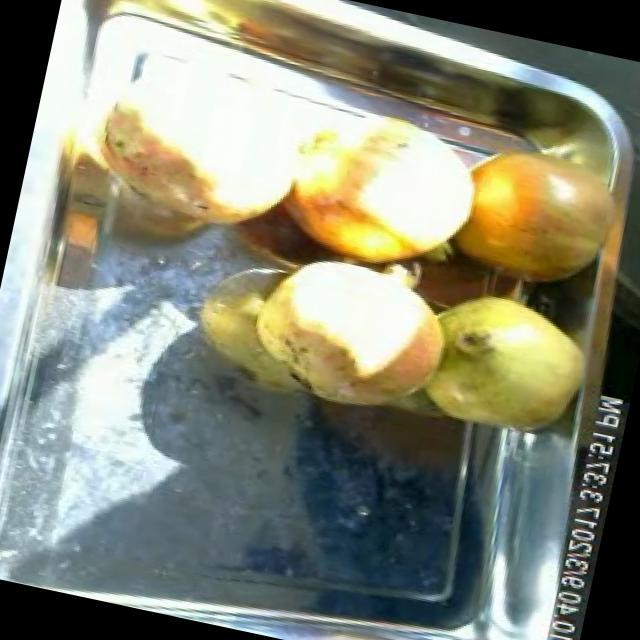fruit: (64, 42, 330, 258), (221, 223, 482, 441), (253, 79, 509, 298), (436, 118, 640, 310), (405, 271, 607, 456)
